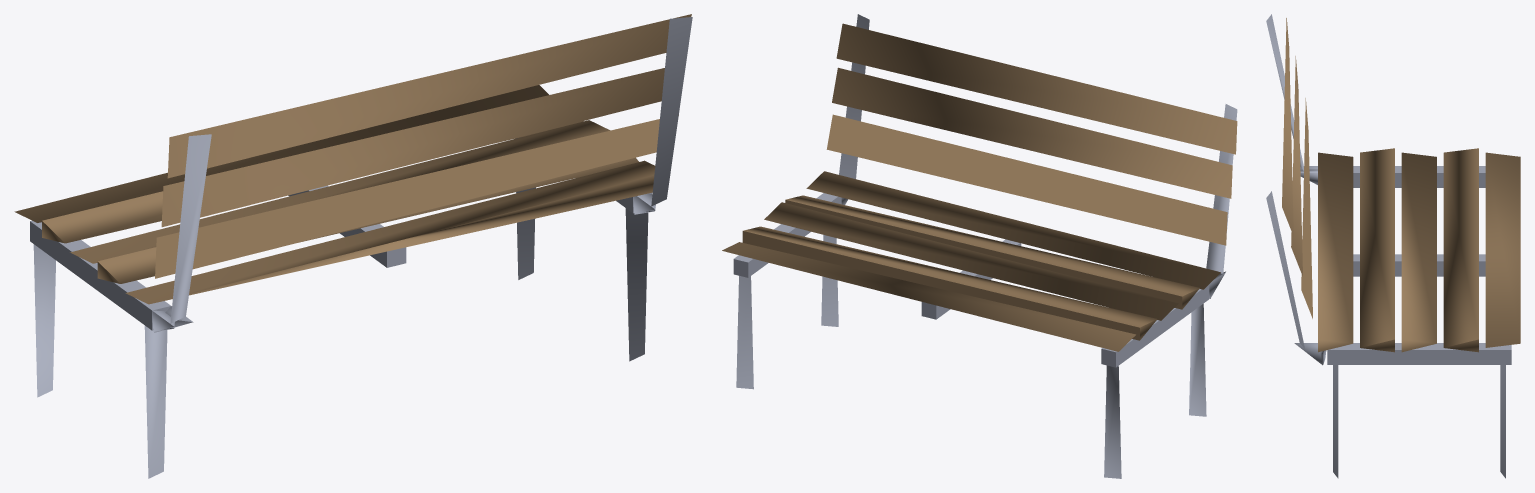
File: bench(joined)_LOD2.fbx
3 views of the same model, side by side, from view 1: azimuth 30°, elevation 25°; view 2: azimuth 150°, elevation 25°; view 3: azimuth 270°, elevation 25° (orthographic). The views are drawn at different scales.
Visible parts, largest first — view 1: Cube.002; view 2: Cube.002; view 3: Cube.002.
Part boxes in pixels (x1,y1,x2,y2): Cube.002: [14, 14, 692, 478]; Cube.002: [722, 14, 1237, 478]; Cube.002: [1266, 14, 1520, 478].
Bounding box in the file's own units: 540 × 370 × 304.
